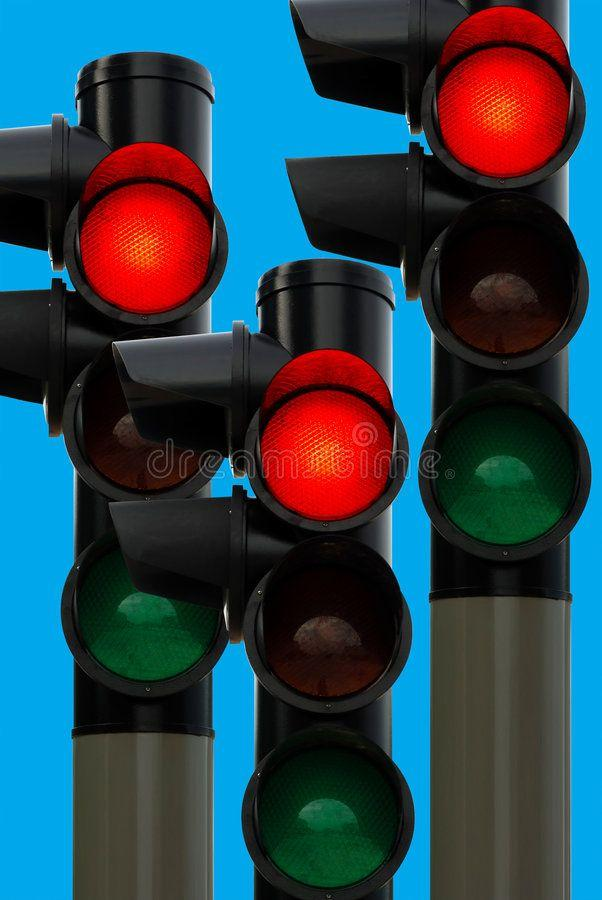red: (235, 345, 418, 900)
